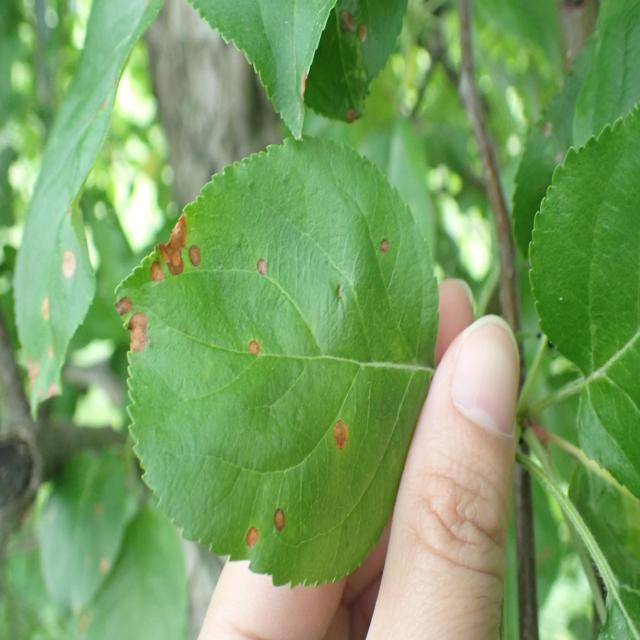frog-eye-leaf-spot: (113, 135, 440, 590), (304, 0, 408, 124)
